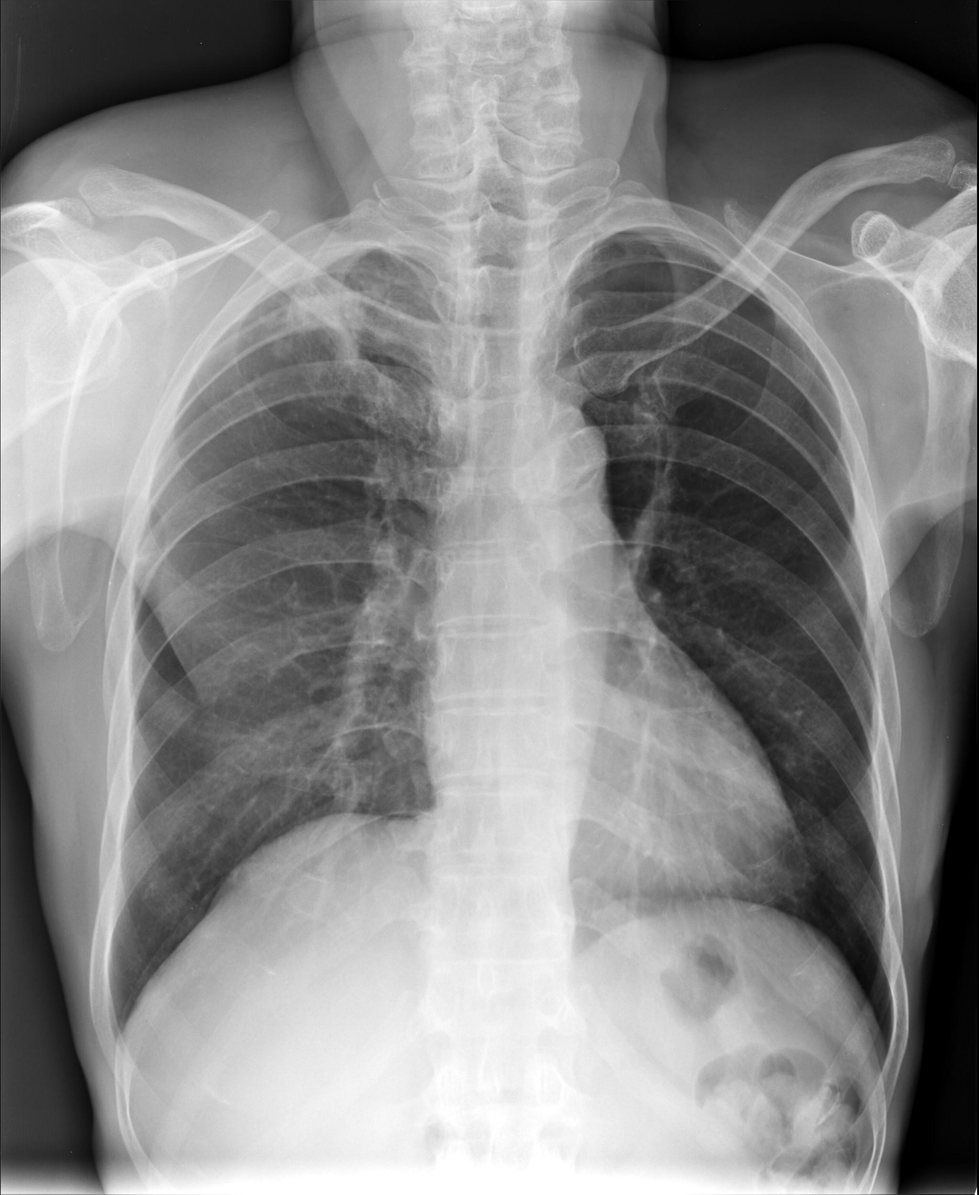Pleural thickening: (668, 224, 744, 276), (89, 997, 129, 1063)
Pulmonary fibrosis: (250, 255, 394, 379)
